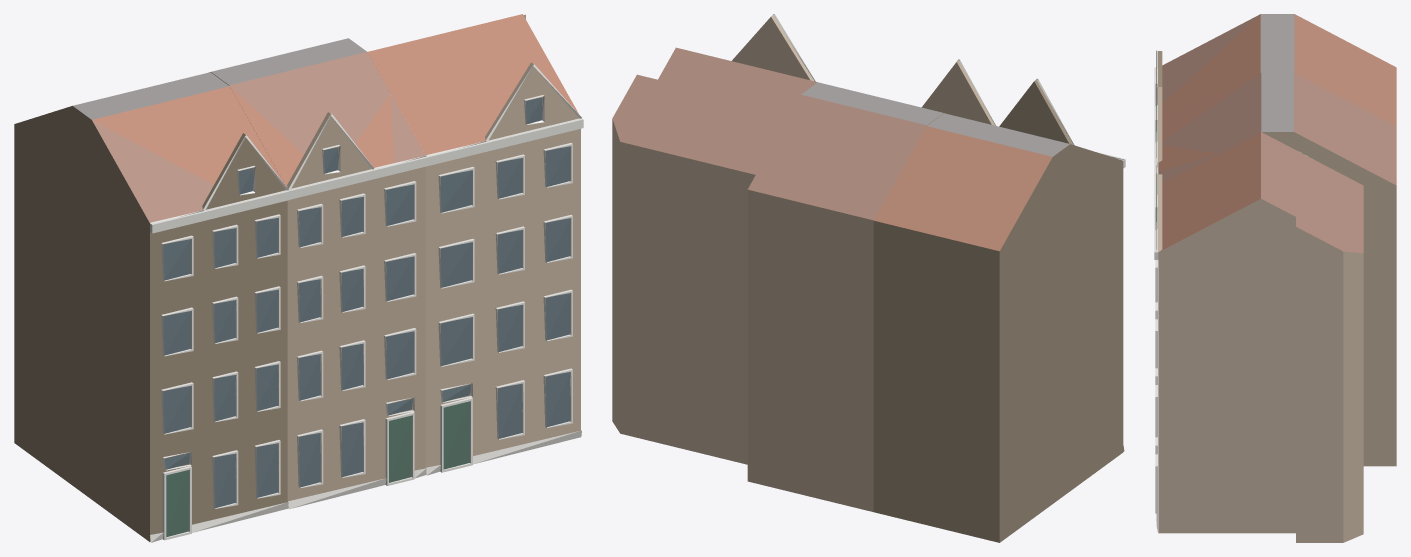
The model's file is chunk-face-hasebroek-90-98-r1.lod2.glb.
The picture shows the model from 3 angles, left to right: view 1: azimuth 30°, elevation 25°; view 2: azimuth 150°, elevation 25°; view 3: azimuth 270°, elevation 25°; orthographic projection. The views are drawn at different scales.
Parts seen in each view (by area): view 1: lod2; view 2: lod2; view 3: lod2.
Boxes of the visible parts, box(x1,y1,x2,y2) form: lod2: box(14, 14, 583, 542); lod2: box(612, 14, 1125, 542); lod2: box(1154, 14, 1396, 542).
Size of the model in its own units: 19.26 by 15.62 by 10.13.
